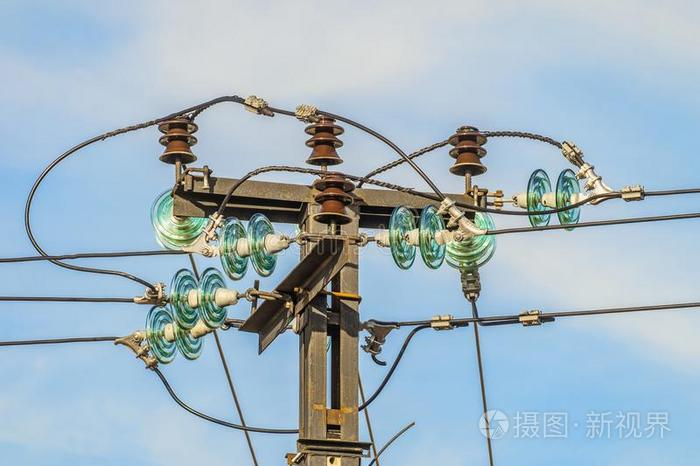insulator: (222, 212, 277, 281), (167, 268, 229, 328), (388, 205, 443, 270), (144, 305, 205, 363), (527, 166, 580, 232), (443, 208, 498, 271), (152, 189, 206, 248), (154, 118, 202, 161), (447, 132, 490, 177), (306, 122, 345, 163)
